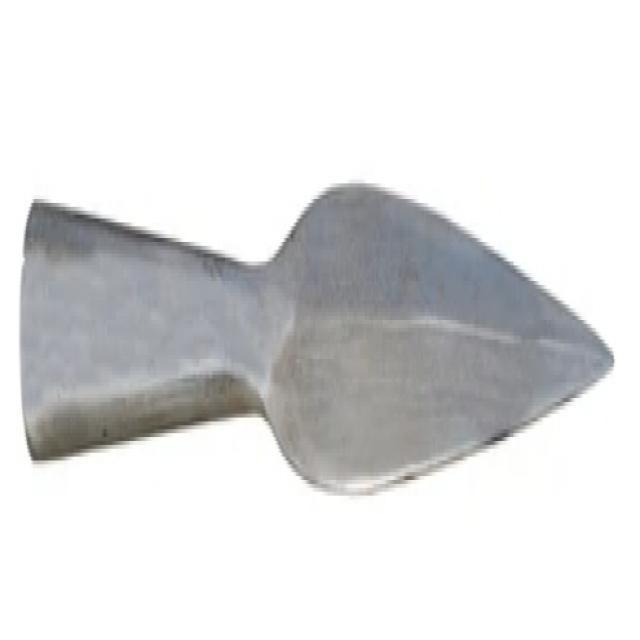spear: (15, 118, 626, 550)
